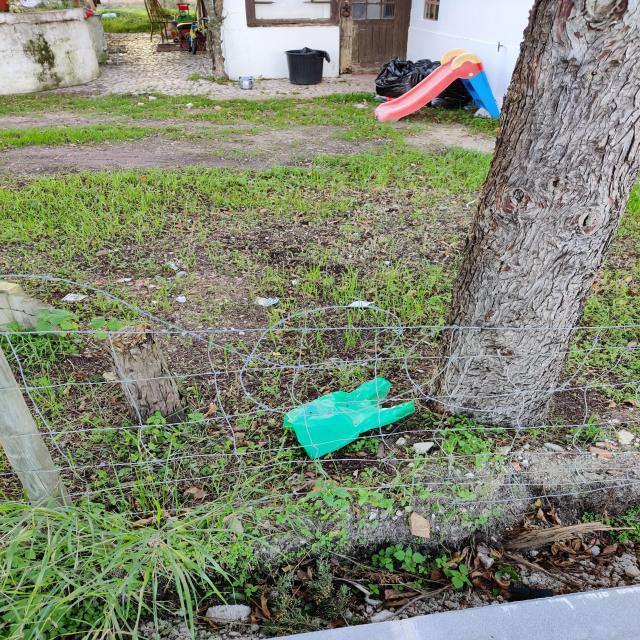litter: (250, 357, 451, 476)
